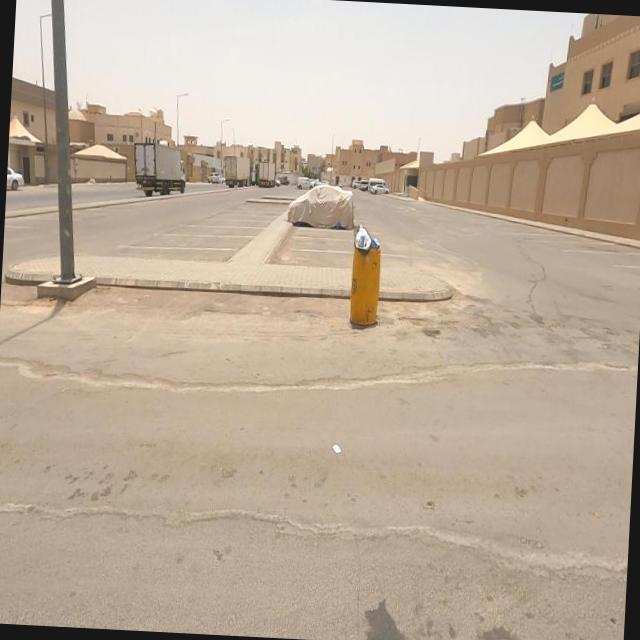debris: (328, 193, 403, 290), (310, 404, 364, 490)
